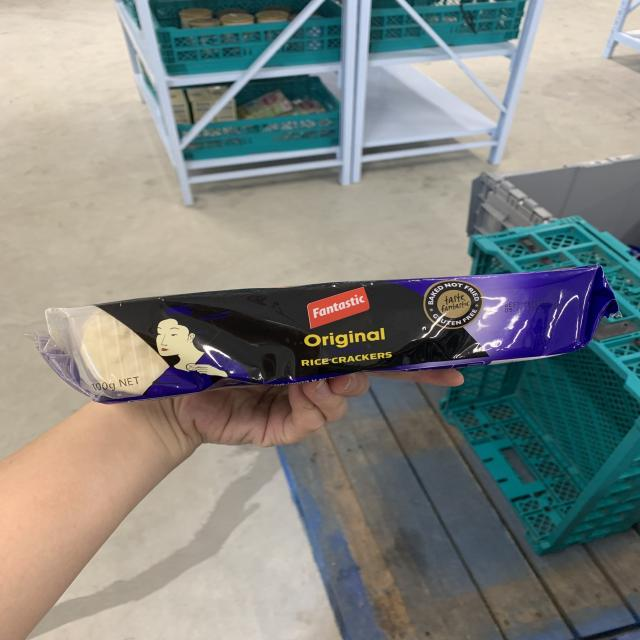object_name: (55, 277, 594, 362)
